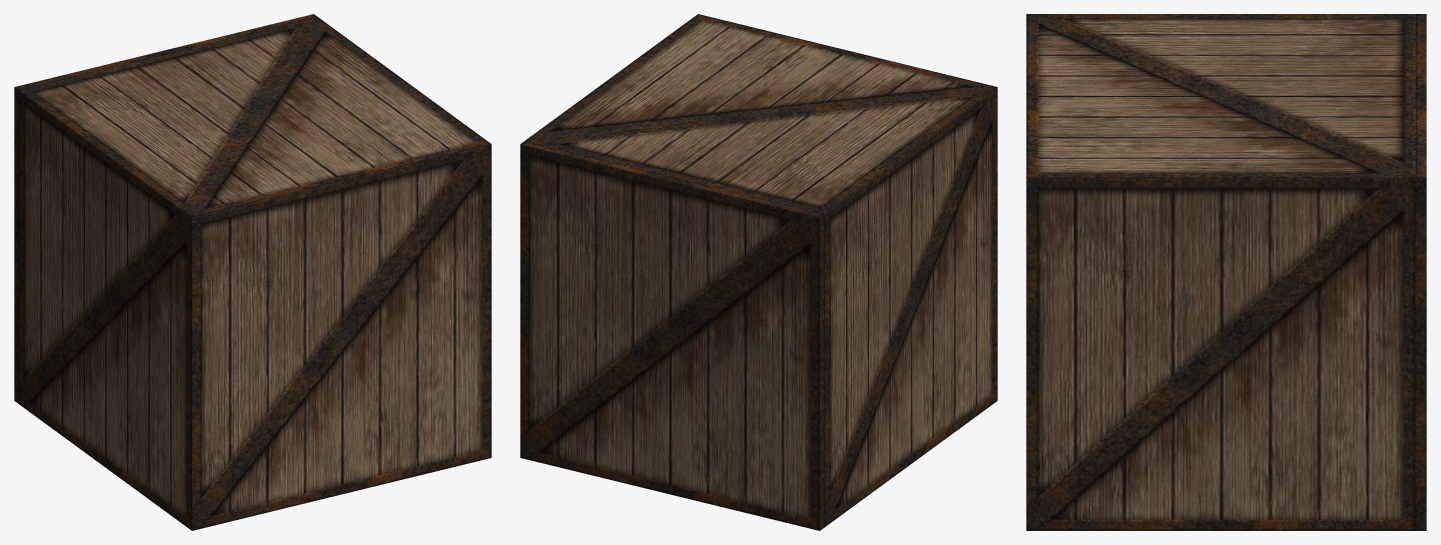
File: Crate 7.dae
3 views of the same model, side by side, from view 1: azimuth 30°, elevation 25°; view 2: azimuth 150°, elevation 25°; view 3: azimuth 270°, elevation 25° (orthographic). The views are drawn at different scales.
Parts seen in each view (by area): view 1: ske7B; view 2: ske7B; view 3: ske7B.
Part boxes in pixels (bbox=[...]): ske7B: bbox=[14, 14, 491, 530]; ske7B: bbox=[520, 14, 997, 530]; ske7B: bbox=[1026, 14, 1426, 530].
Size of the model in its own units: 35 by 36 by 35.
Materials: 1 (1 with a texture image).
